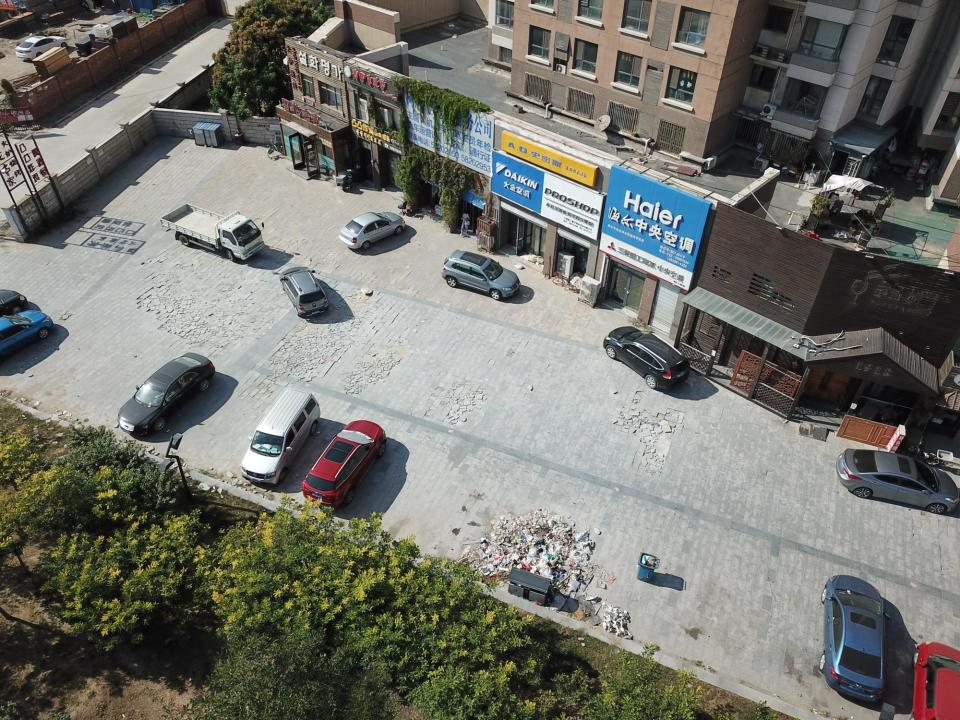car: (820, 574, 892, 701), (836, 448, 959, 513), (118, 352, 215, 434), (302, 420, 386, 508), (603, 326, 691, 390), (440, 249, 520, 299), (910, 641, 960, 719), (0, 310, 54, 363), (279, 266, 329, 318), (339, 212, 405, 250), (15, 36, 68, 60)
truck: (159, 204, 265, 261)
van: (241, 389, 320, 486)
